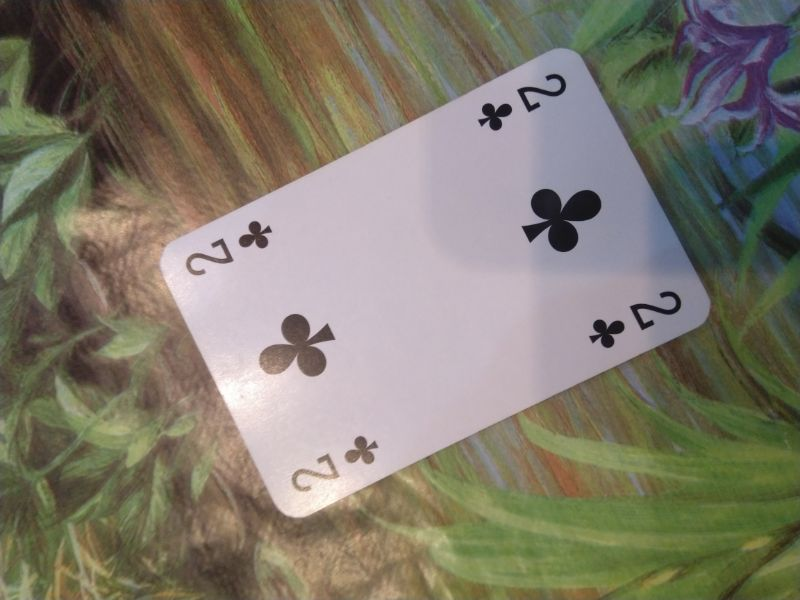2c: (583, 286, 689, 351), (181, 216, 279, 282), (472, 69, 570, 135), (288, 434, 381, 497)
